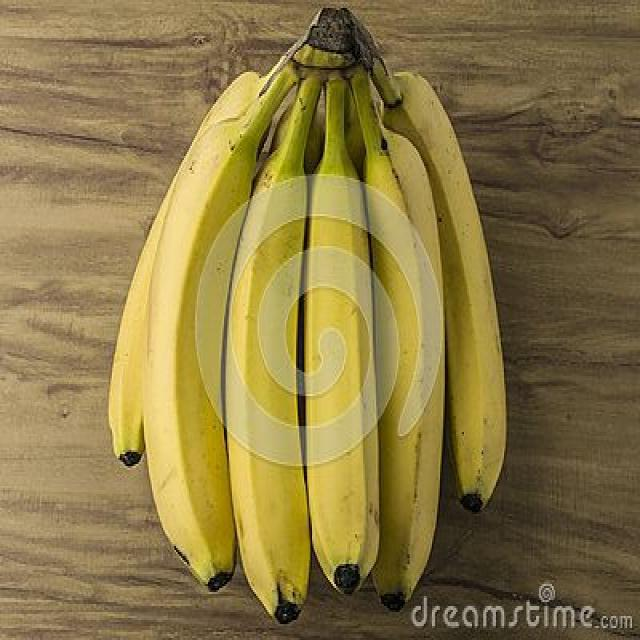banana: (104, 0, 509, 630)
